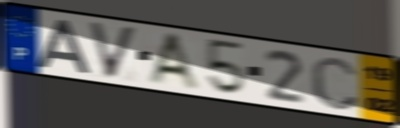2: (262, 48, 307, 104)
5: (203, 38, 247, 96)
A: (145, 31, 205, 93), (35, 18, 92, 75)
C: (308, 54, 361, 113)
V: (86, 19, 140, 82)
